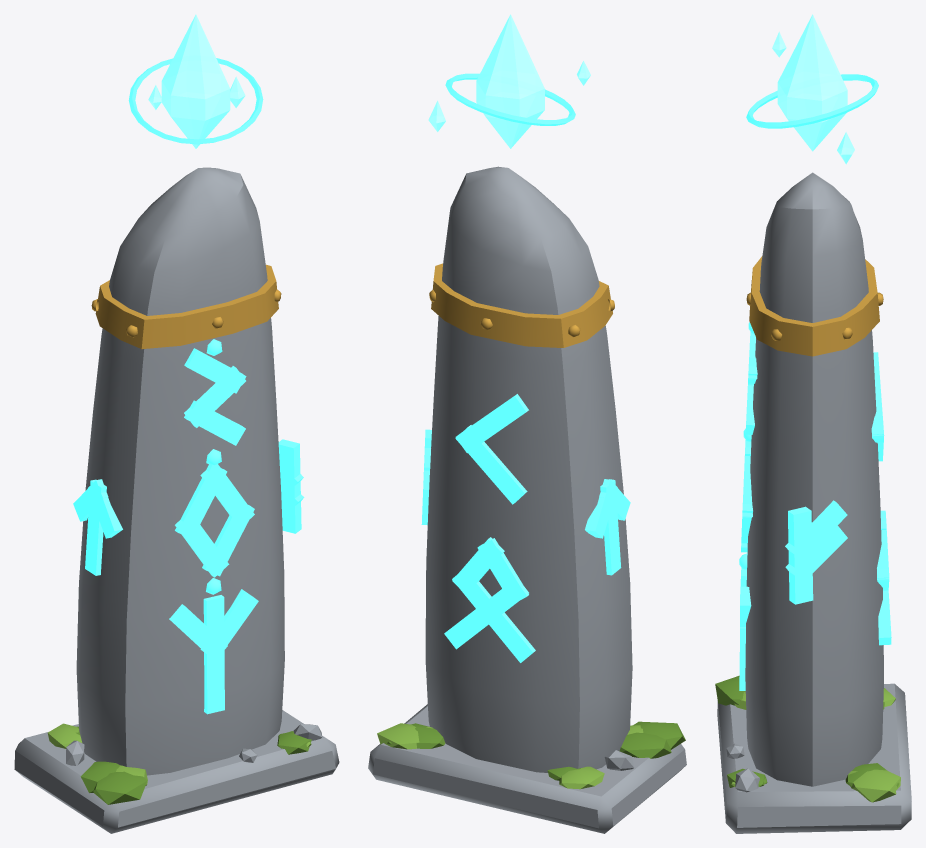
File: ley_stone.glb
3 renders of one model, left to right at view 1: azimuth 30°, elevation 25°; view 2: azimuth 150°, elevation 25°; view 3: azimuth 270°, elevation 25°, orthographic.
Parts seen in each view (by area): view 1: LeyStone; view 2: LeyStone; view 3: LeyStone.
Part boxes in pixels (box(x1,y1,x2,y2)): LeyStone: box(14, 14, 339, 833); LeyStone: box(368, 14, 686, 833); LeyStone: box(715, 14, 911, 833).
Size of what is drawn, in the model's own units: 1.21 by 3.54 by 0.8153.
